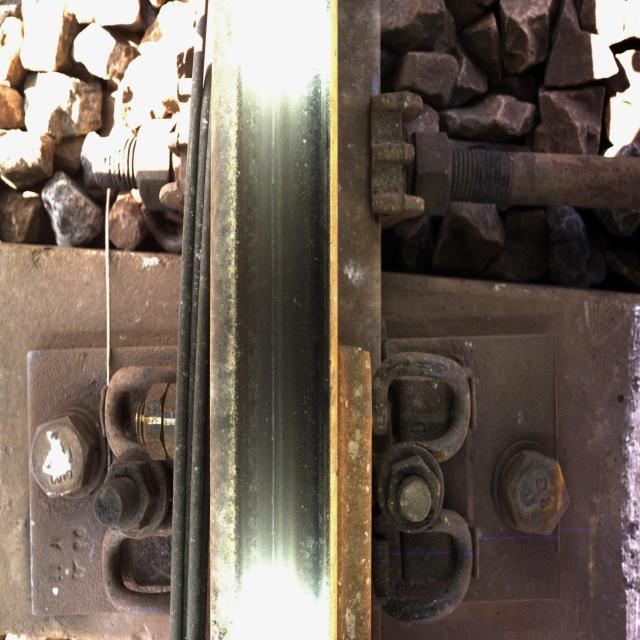break: (228, 72, 326, 578)
